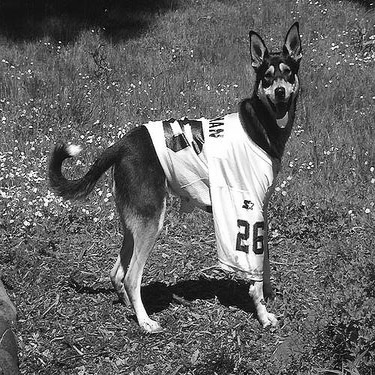dog: (34, 18, 315, 340)
